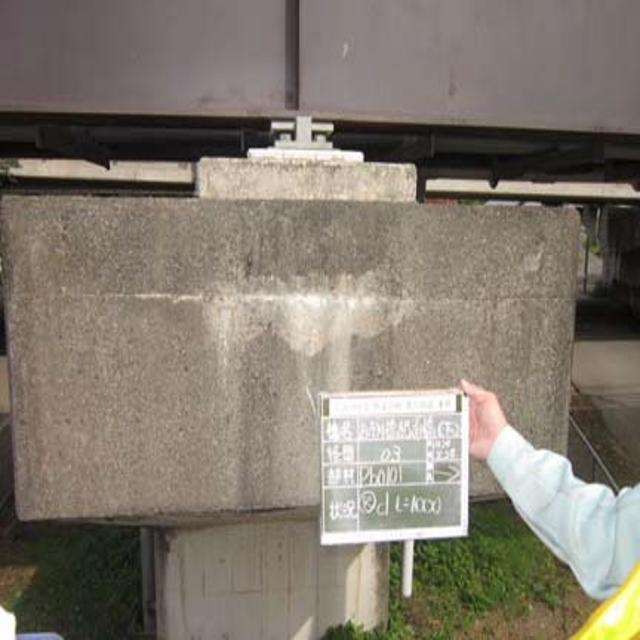freelime: (200, 267, 400, 347)
